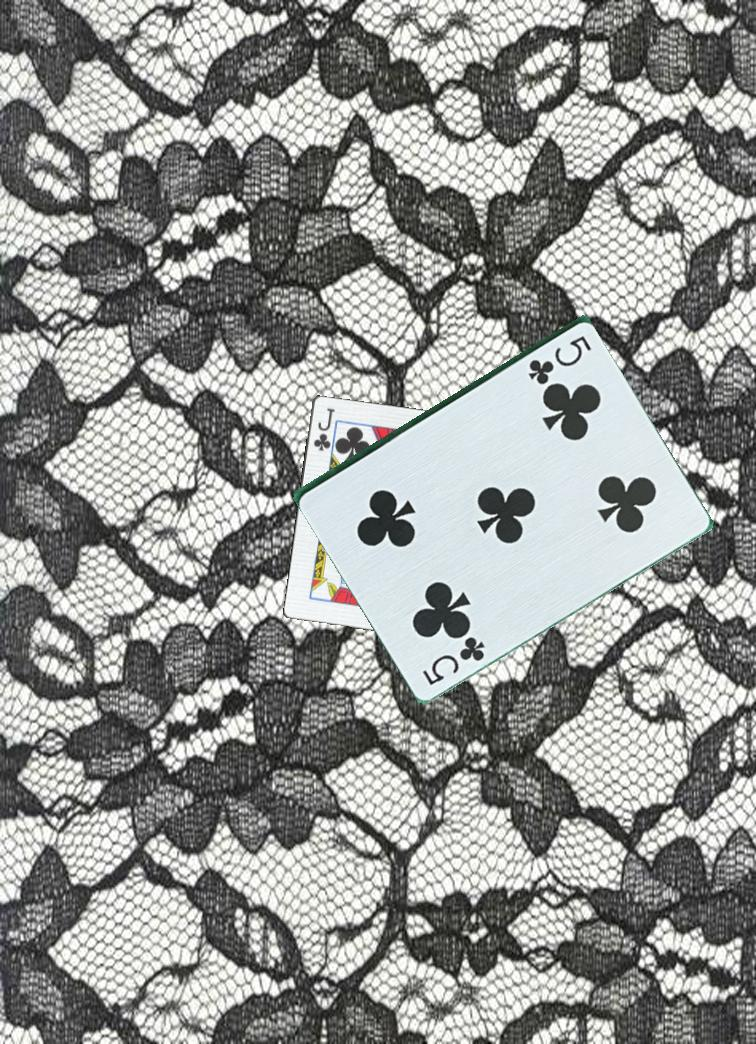5c: (419, 633, 492, 689), (524, 332, 598, 387)
jc: (309, 404, 337, 453)
